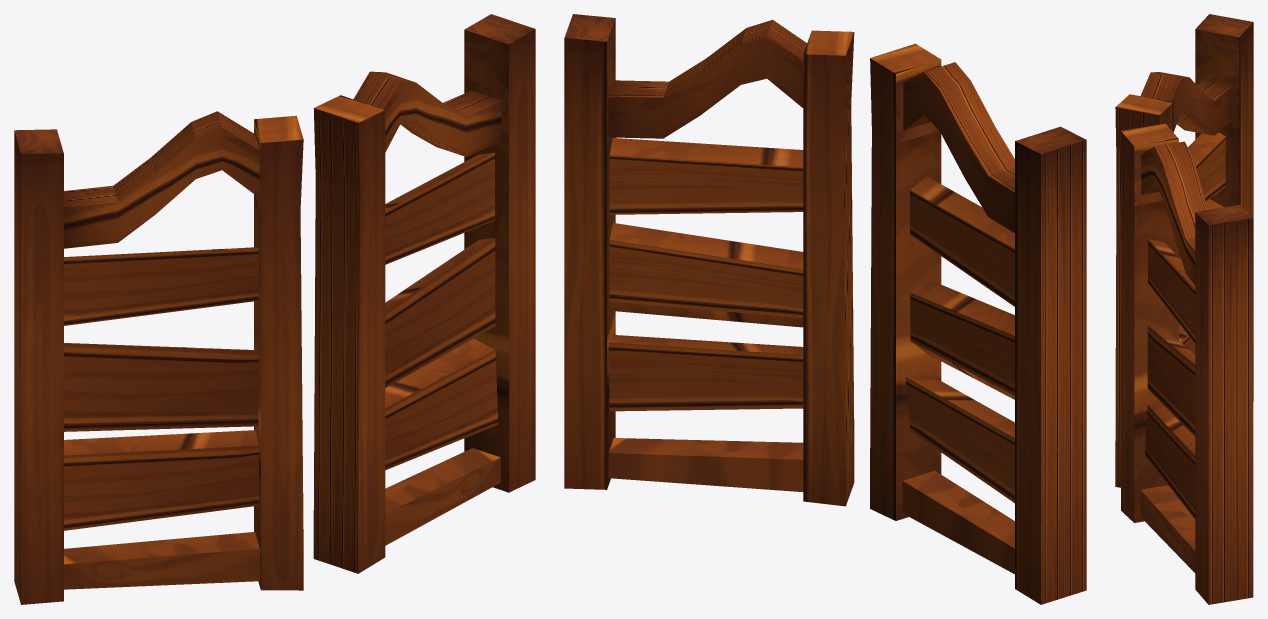
File: ANIMACION PUERTAabrir2.fbx
3 views of the same model, side by side, from view 1: azimuth 30°, elevation 25°; view 2: azimuth 150°, elevation 25°; view 3: azimuth 270°, elevation 25° (orthographic). The views are drawn at different scales.
Parts seen in each view (by area): view 1: Cube.001, Cube.051; view 2: Cube.051, Cube.001; view 3: Cube.051, Cube.001.
Part boxes in pixels (box(x1,y1,x2,y2)): Cube.001: box(14, 111, 303, 604); Cube.051: box(313, 14, 535, 573); Cube.051: box(564, 14, 854, 506); Cube.001: box(870, 43, 1086, 604); Cube.051: box(1121, 123, 1253, 604); Cube.001: box(1115, 14, 1253, 487).
Size of the model in its own units: 133 by 114 by 36.77.
